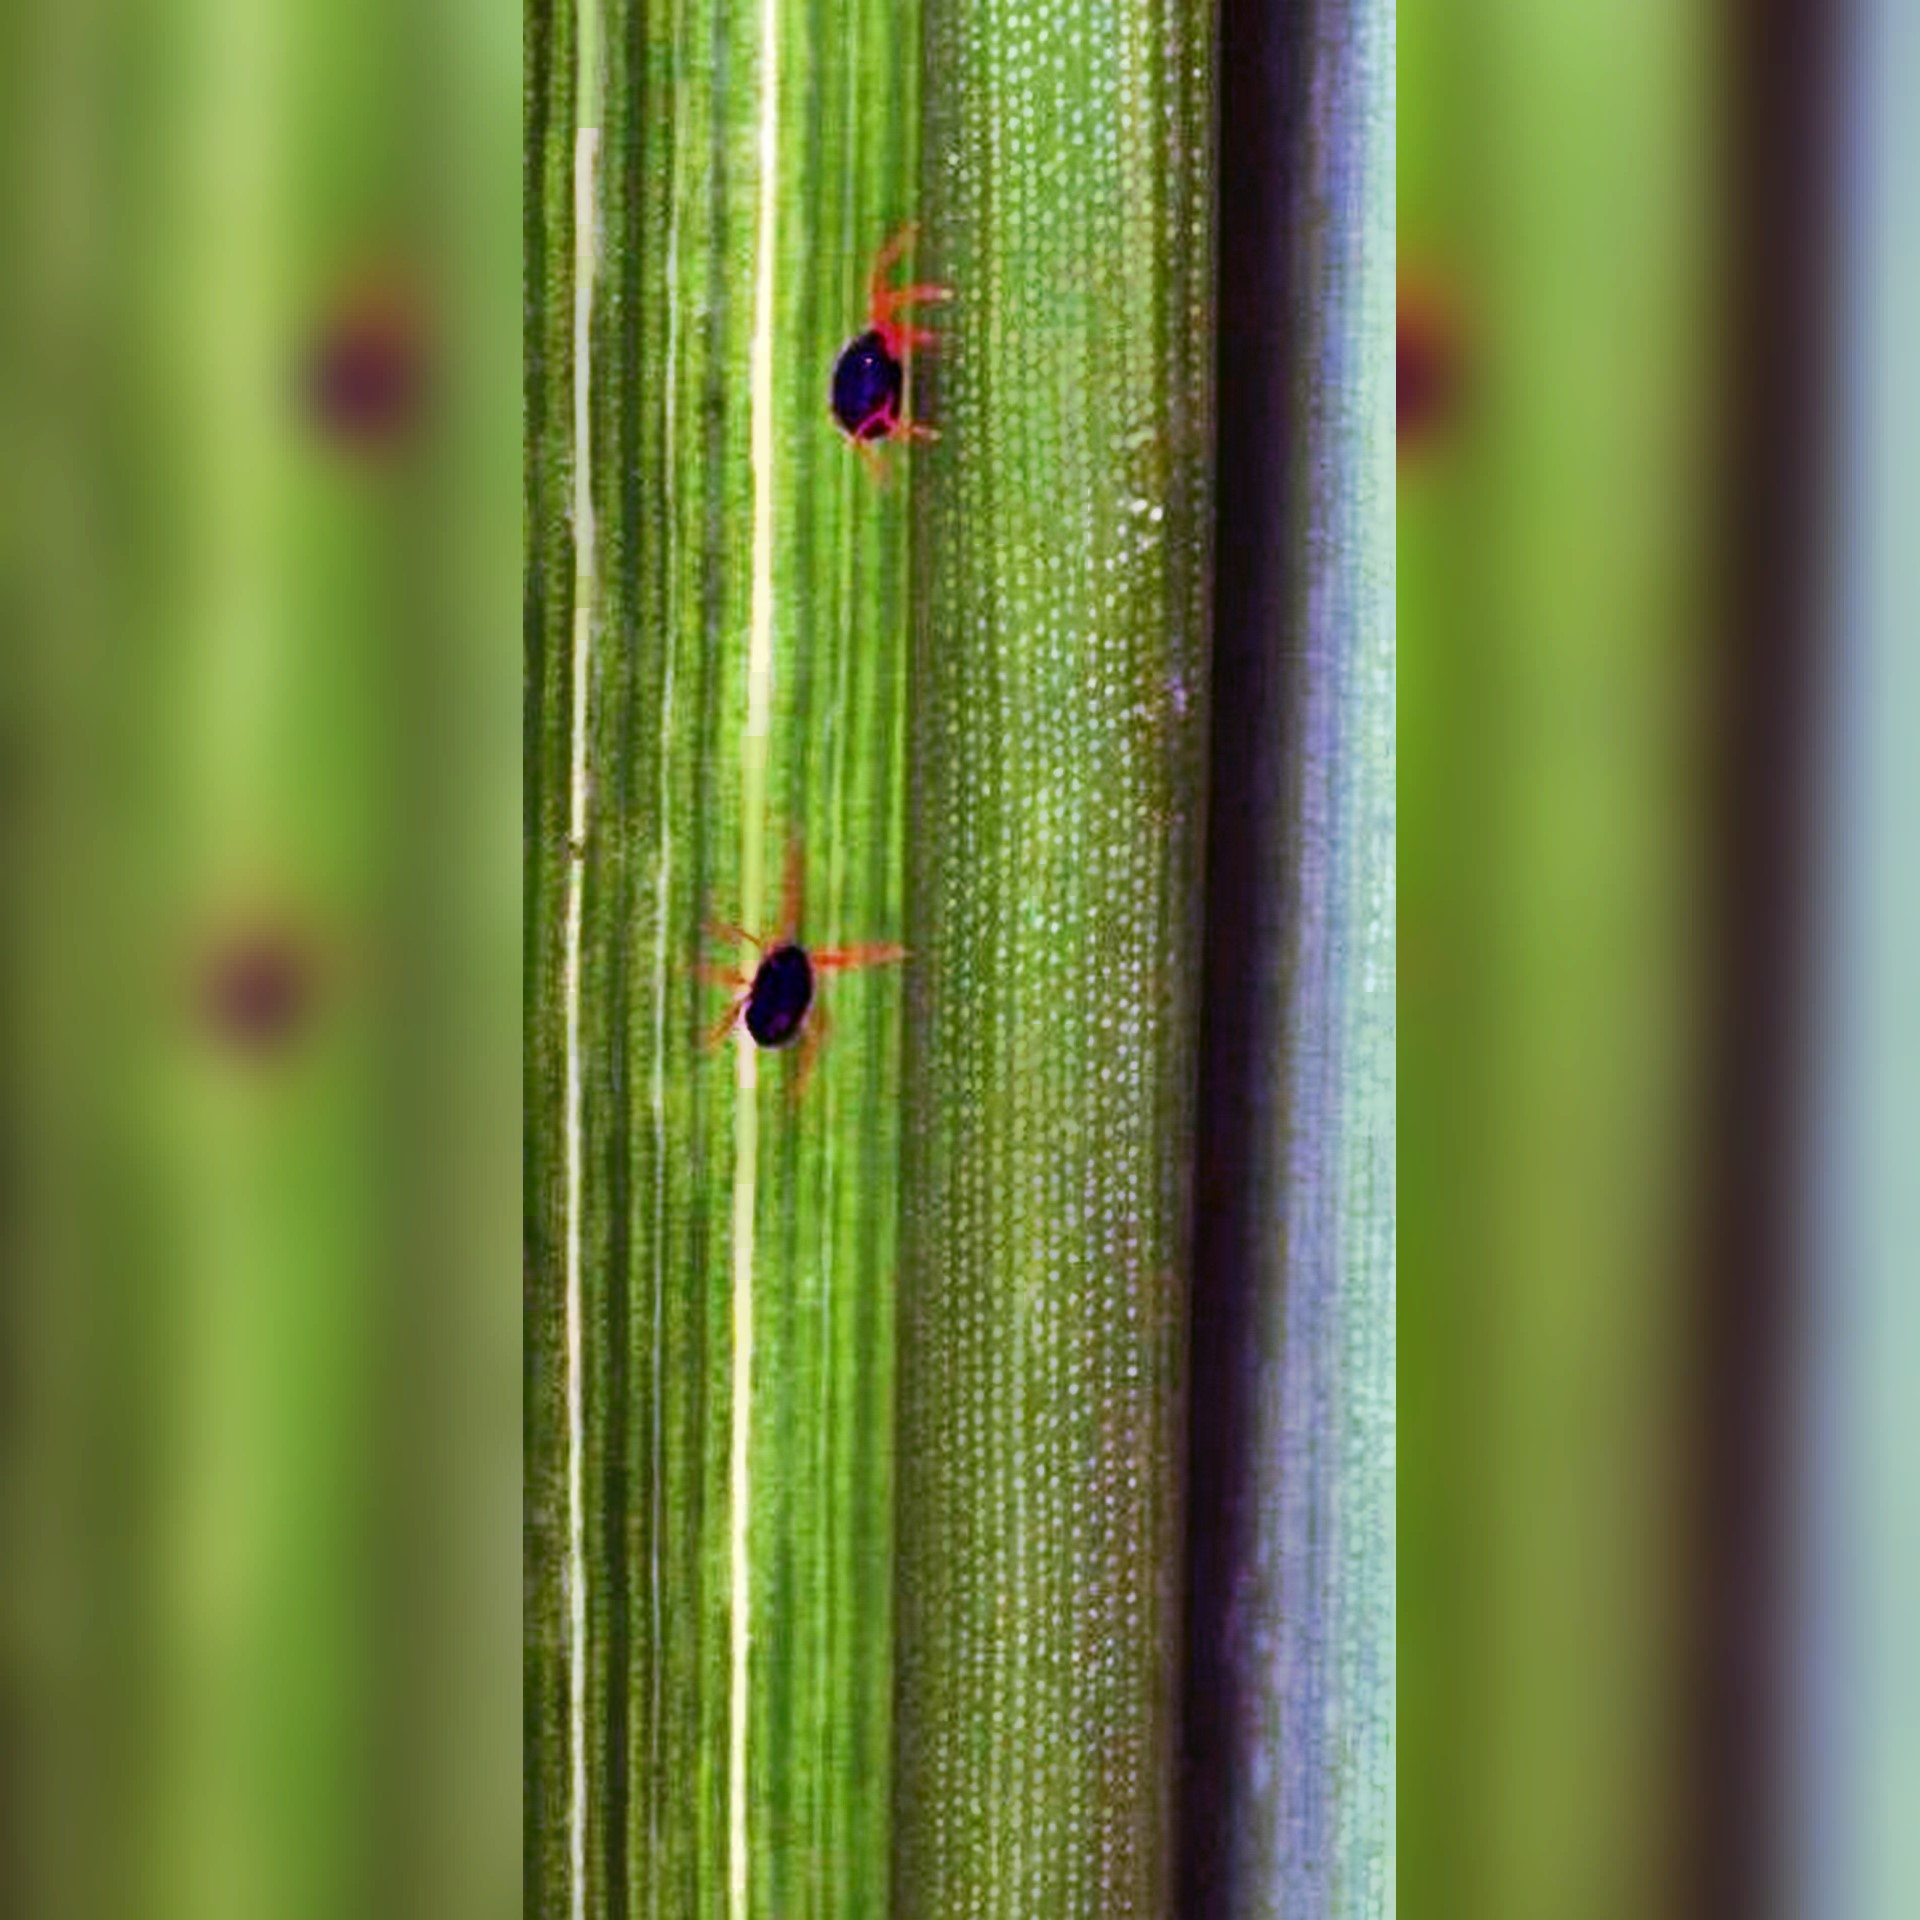Wheat Red Spider: (796, 215, 971, 513)
